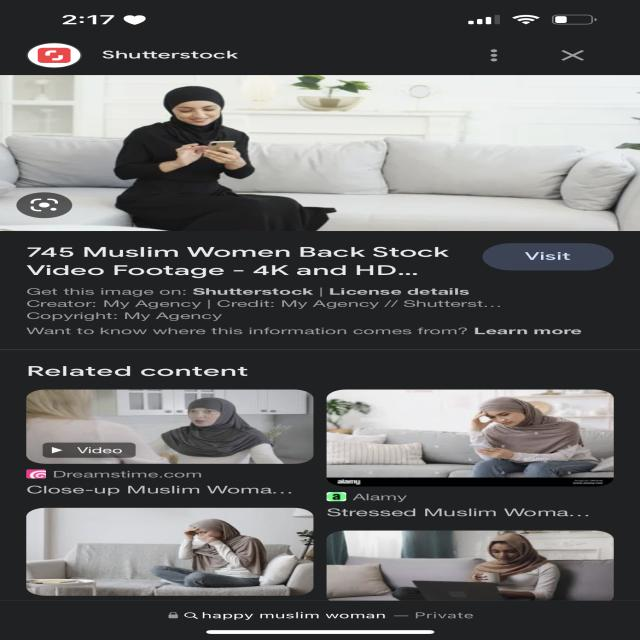happy: (167, 96, 222, 129)
